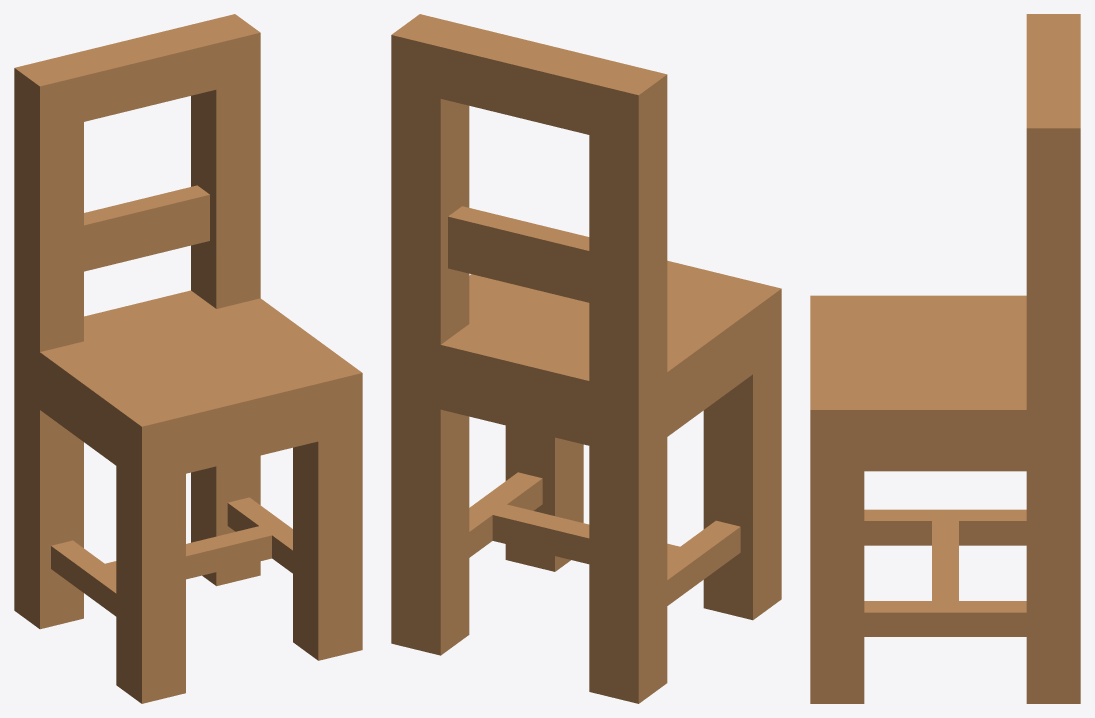
The model's file is kitChair.glb.
3 renders of one model, left to right at view 1: azimuth 30°, elevation 25°; view 2: azimuth 150°, elevation 25°; view 3: azimuth 270°, elevation 25°, orthographic. The views are drawn at different scales.
Parts seen in each view (by area): view 1: kitChair_wood; view 2: kitChair_wood; view 3: kitChair_wood.
Part boxes in pixels (<box>): kitChair_wood: <box>14,14,362,703</box>; kitChair_wood: <box>391,14,781,703</box>; kitChair_wood: <box>810,14,1080,703</box>.
Bounding box in the file's own units: 0.4 × 0.94 × 0.4.
